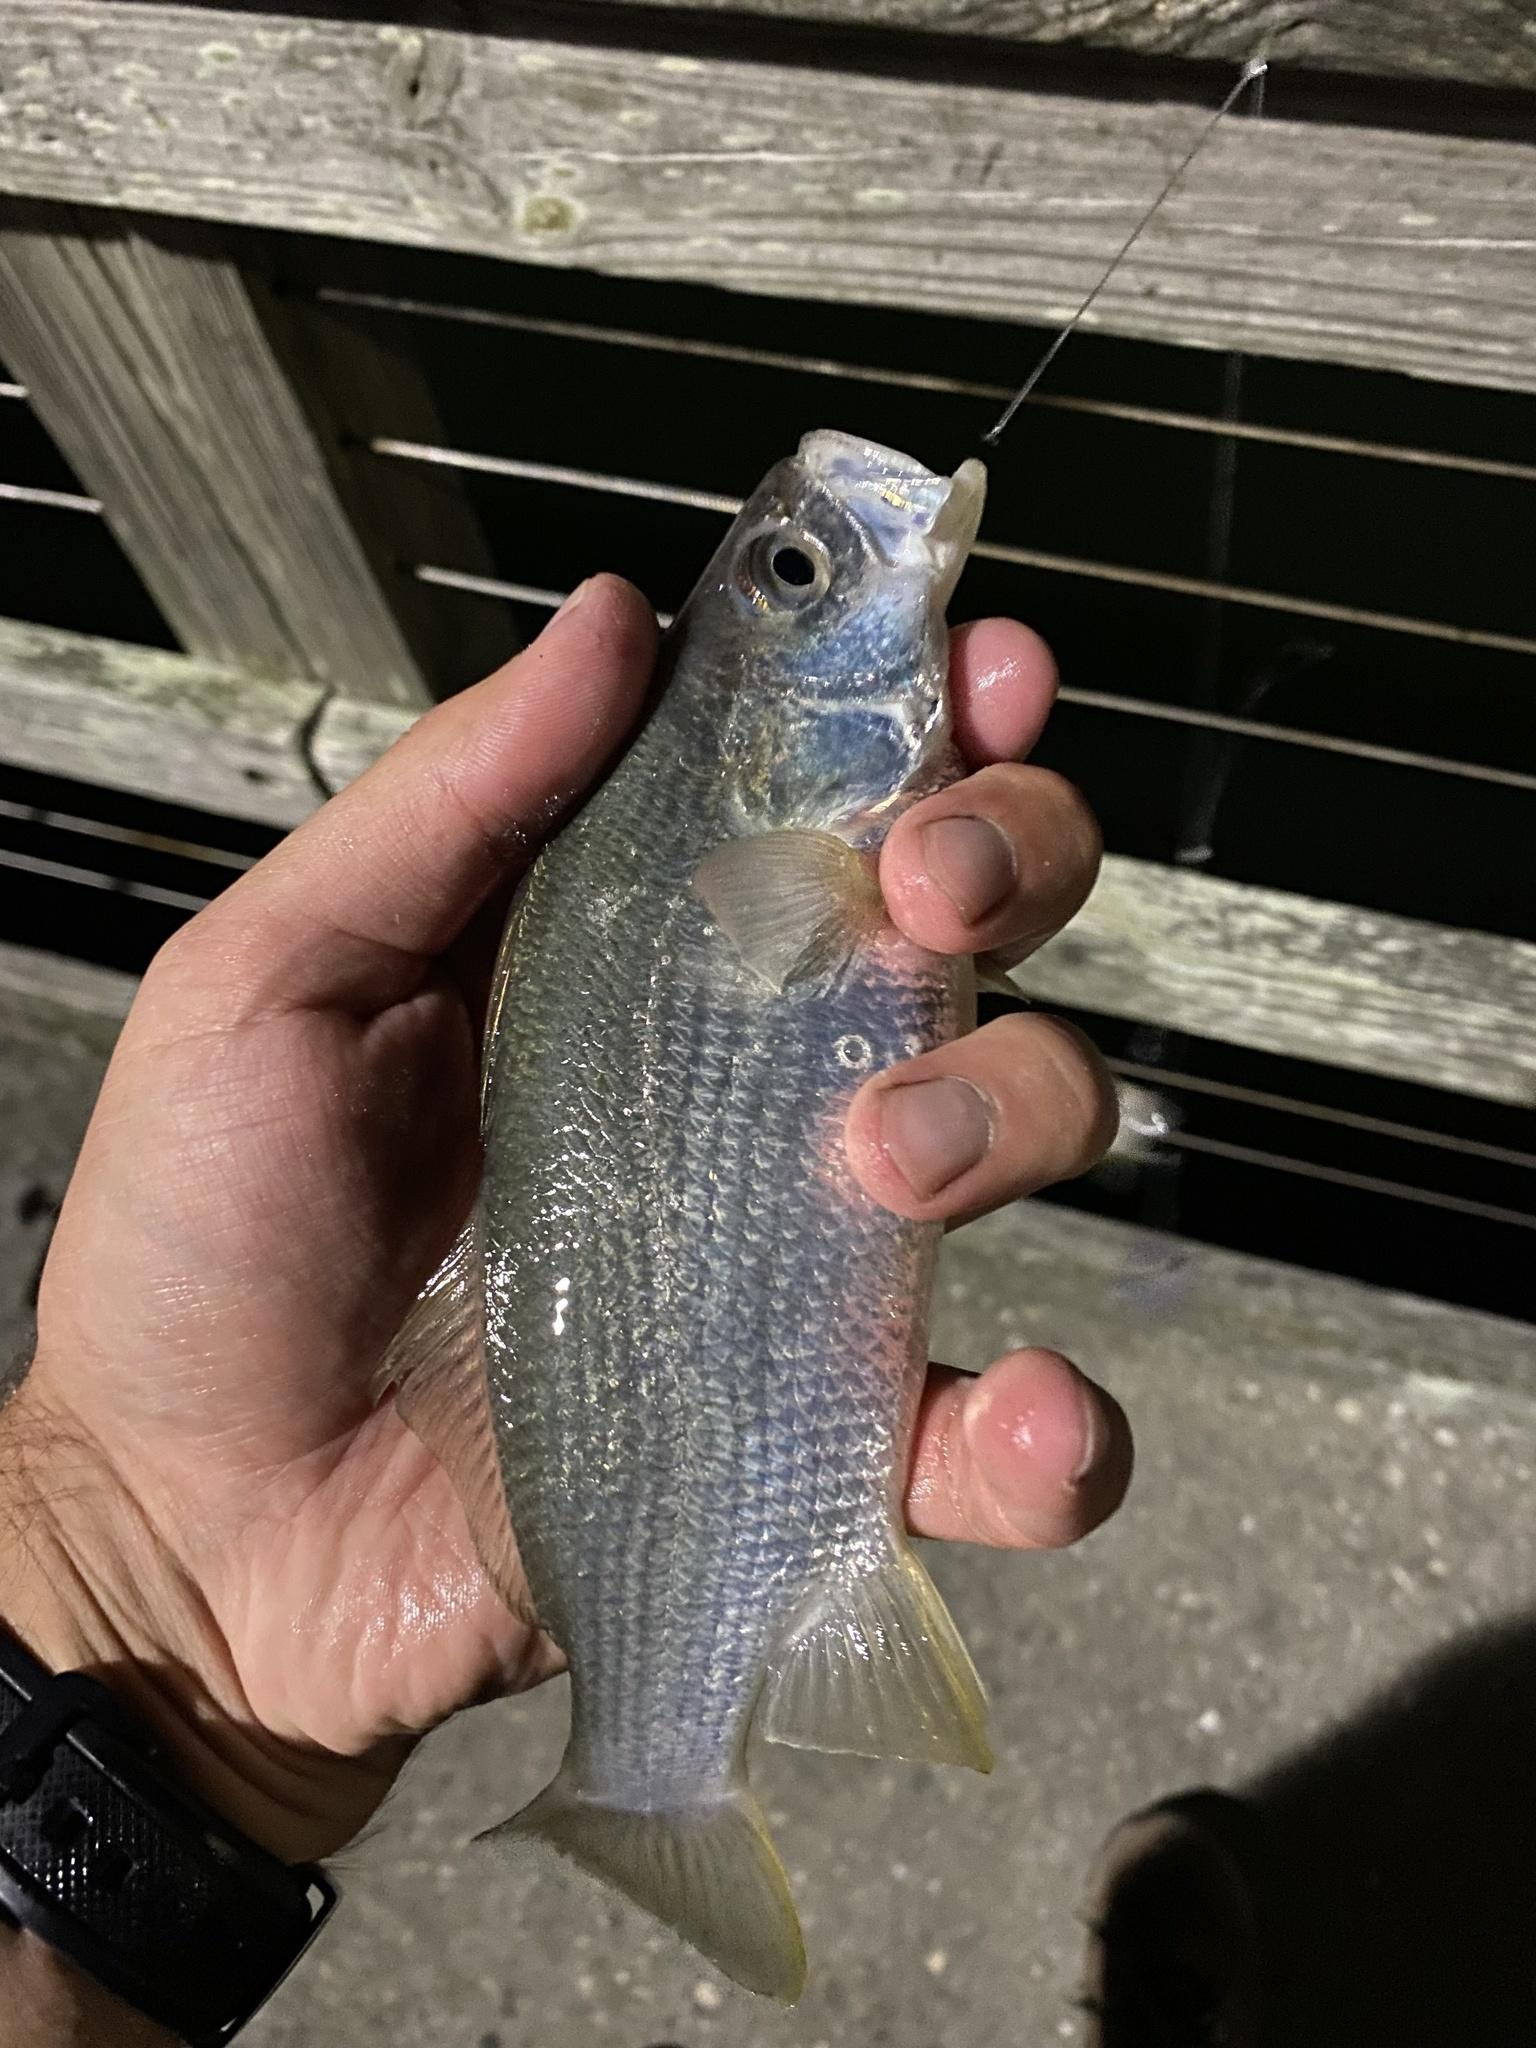Silver Perch: (452, 426, 1016, 2004)
